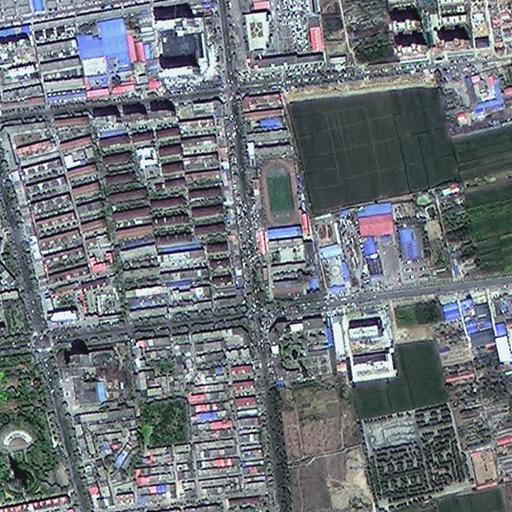school: (258, 154, 306, 299)
